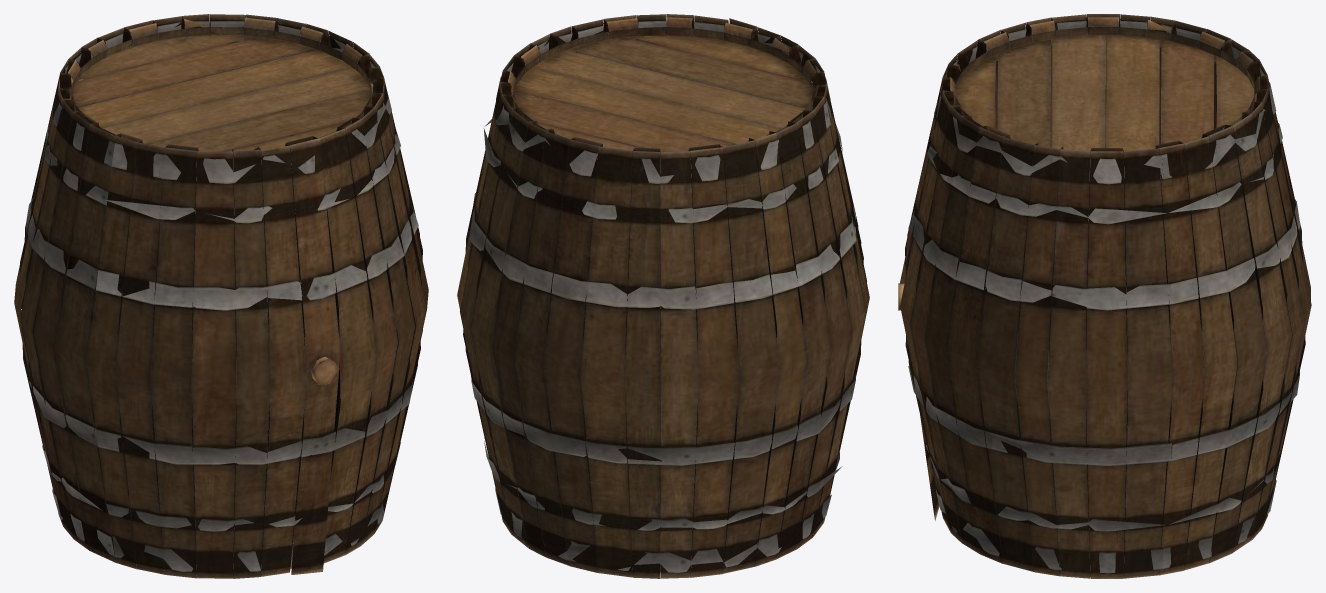
File: wine_barrel_01_lod.glb
The picture shows the model from 3 angles, left to right: view 1: azimuth 30°, elevation 25°; view 2: azimuth 150°, elevation 25°; view 3: azimuth 270°, elevation 25°; orthographic projection.
Visible parts, largest first — view 1: wine_barrel_01, wine_barrel_01_Lid, wine_barrel_01_bung; view 2: wine_barrel_01, wine_barrel_01_Lid; view 3: wine_barrel_01, wine_barrel_01_Lid.
Boxes of the visible parts, x1=… form: wine_barrel_01: x1=14, y1=14, x2=428, y2=578; wine_barrel_01_Lid: x1=69, y1=35, x2=373, y2=151; wine_barrel_01_bung: x1=311, y1=356, x2=339, y2=384; wine_barrel_01: x1=457, y1=14, x2=869, y2=578; wine_barrel_01_Lid: x1=511, y1=36, x2=815, y2=152; wine_barrel_01: x1=900, y1=14, x2=1311, y2=578; wine_barrel_01_Lid: x1=954, y1=35, x2=1256, y2=151.
Size of the model in its own units: 0.761 by 0.8782 by 0.762.
1 material, 1 textured.
